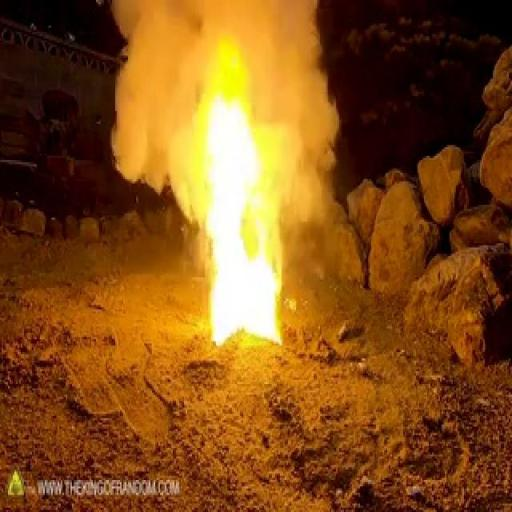smoke: (205, 202, 312, 320)
